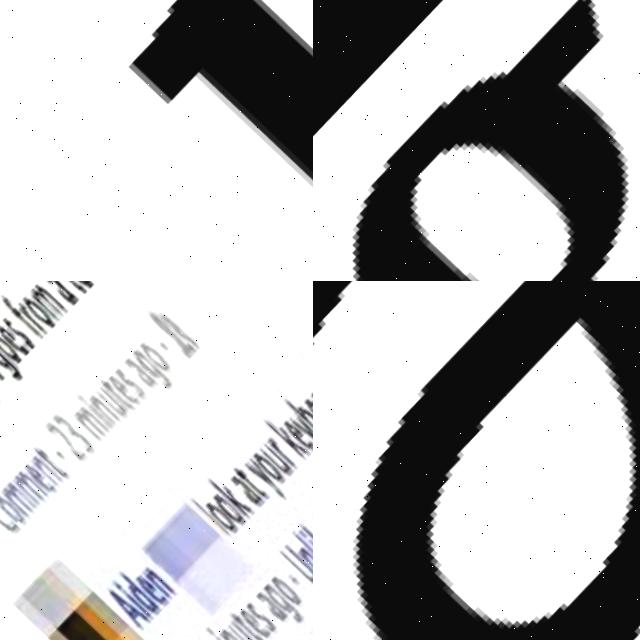2: (43, 416, 94, 461)
3: (52, 408, 102, 453)
A: (313, 281, 640, 640)
G: (313, 0, 640, 281)
J: (0, 0, 313, 281)
